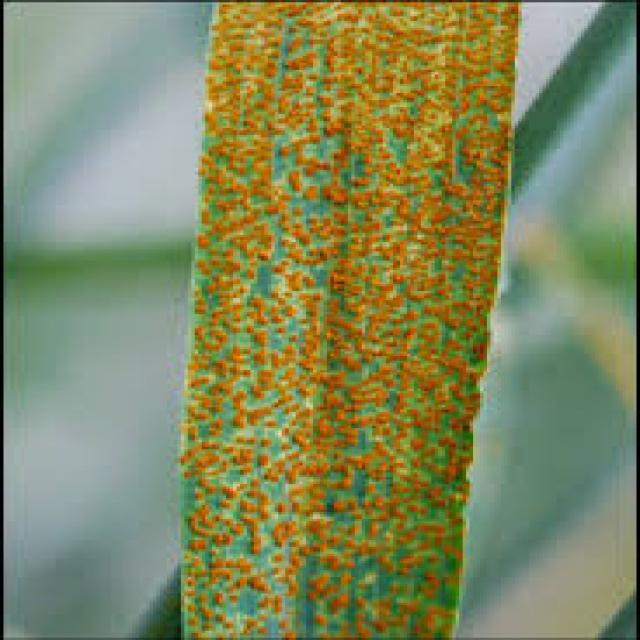leaf rust: (163, 2, 550, 638)
